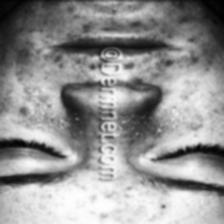Non-Cancerous Skin Condition: (22, 58, 88, 140), (55, 0, 185, 36), (135, 79, 207, 141), (78, 176, 166, 224)
